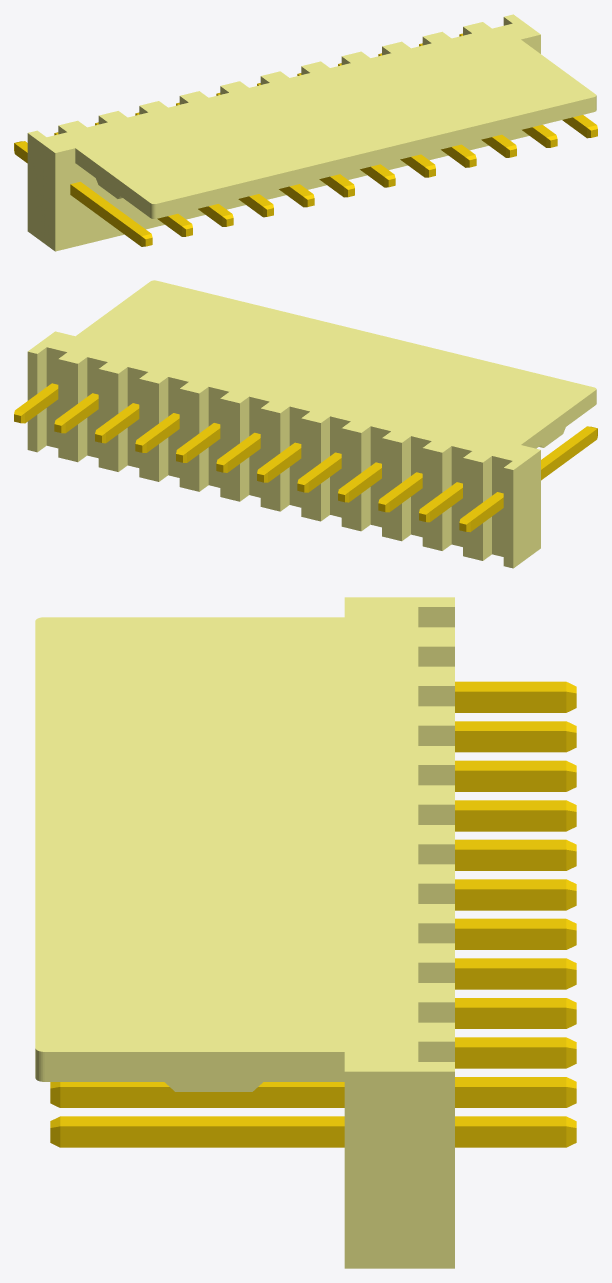
File: DS1070-12 (WF-12 CONNFLY).obj
3 renders of one model, top to bottom at view 1: azimuth 30°, elevation 25°; view 2: azimuth 150°, elevation 25°; view 3: azimuth 270°, elevation 25°, orthographic. The views are drawn at different scales.
Visible parts, largest first — view 1: DS1070-12_(WF-12_CONNFLY); view 2: DS1070-12_(WF-12_CONNFLY); view 3: DS1070-12_(WF-12_CONNFLY).
Boxes of the visible parts, x1,y1,x2,y2 form: DS1070-12_(WF-12_CONNFLY): (14, 14, 597, 251); DS1070-12_(WF-12_CONNFLY): (14, 280, 597, 568); DS1070-12_(WF-12_CONNFLY): (35, 597, 576, 1268).
Size of the model in its own units: 0.0102 by 0.00197 by 0.0049.
